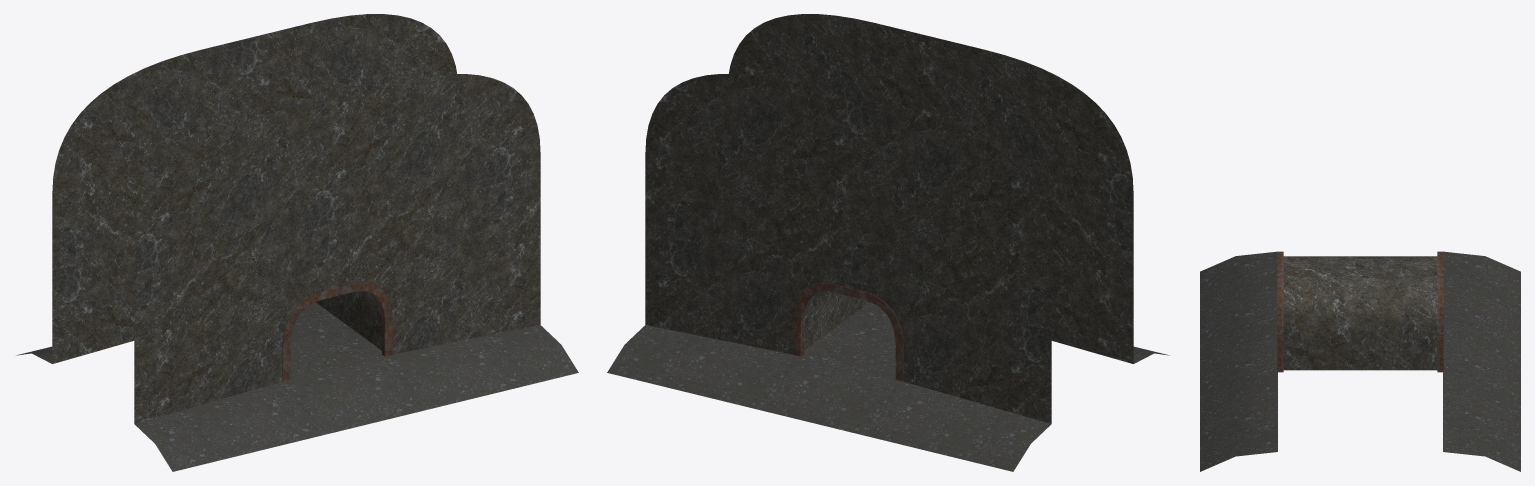
File: straight5.dae
The picture shows the model from 3 angles, left to right: view 1: azimuth 30°, elevation 25°; view 2: azimuth 150°, elevation 25°; view 3: azimuth 270°, elevation 25°; orthographic projection.
Visible parts, largest first — view 1: Rock, Ground, Metal; view 2: Rock, Ground, Metal; view 3: Ground, Rock, Metal.
Boxes of the visible parts, box(x1,y1,x2,y2) form: Rock: box(52, 14, 540, 423); Ground: box(16, 302, 578, 471); Metal: box(282, 283, 392, 381); Rock: box(645, 14, 1133, 423); Ground: box(607, 302, 1169, 471); Metal: box(793, 283, 903, 381); Ground: box(1200, 251, 1520, 471); Rock: box(1283, 256, 1437, 370); Metal: box(1277, 251, 1443, 372).
Size of the model in its own units: 1434 by 970 by 1005.
Materials: 3 (3 with a texture image).
